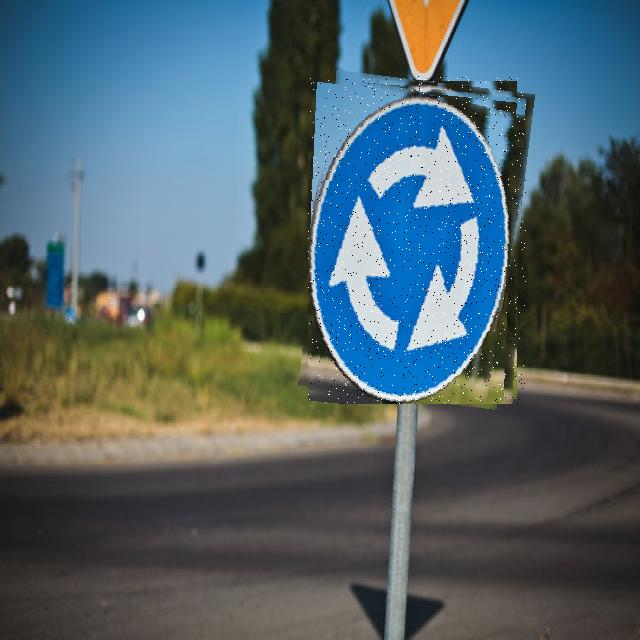roundabout: (308, 76, 526, 404)
